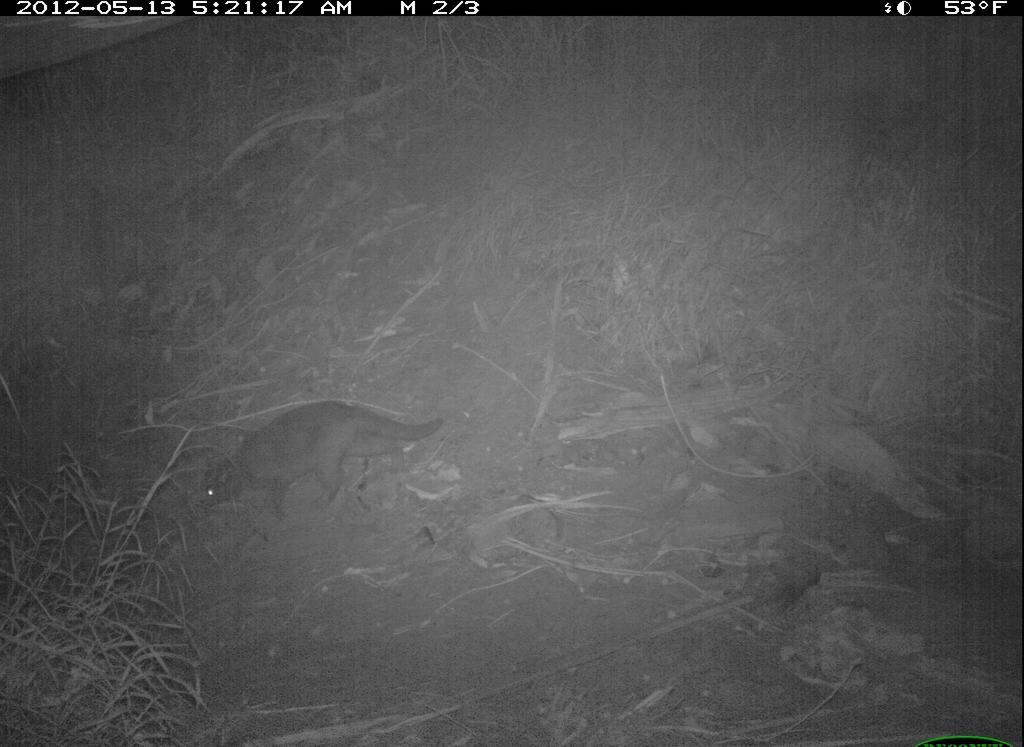cat: (198, 396, 447, 528)
